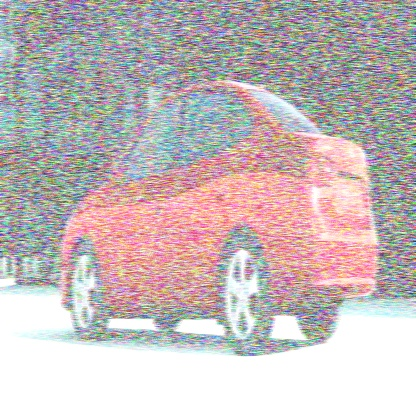Vehicle: (59, 83, 379, 372)
